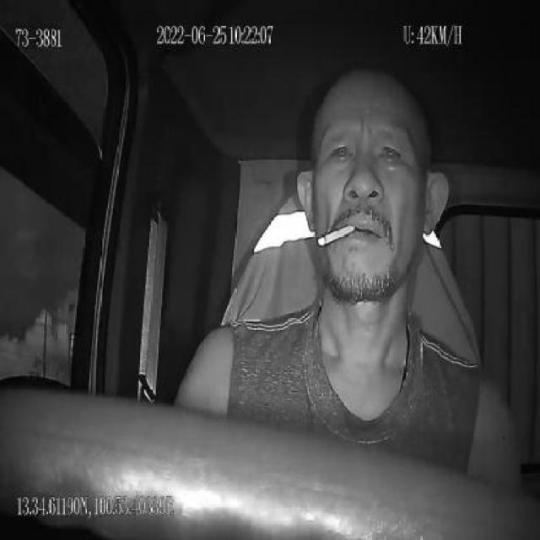smoking: (317, 224, 354, 248)
